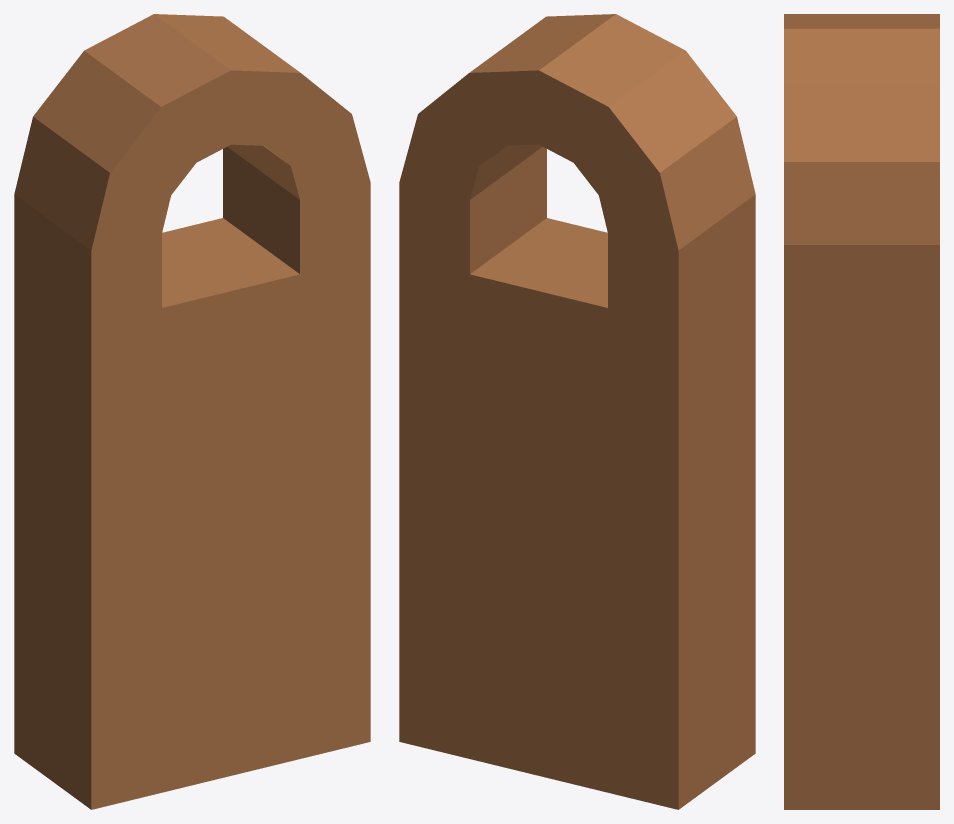
File: SM_Prop_RoofFence_02.glb
The picture shows the model from 3 angles, left to right: view 1: azimuth 30°, elevation 25°; view 2: azimuth 150°, elevation 25°; view 3: azimuth 270°, elevation 25°; orthographic projection.
Visible parts, largest first — view 1: SM_Prop_RoofFence_02; view 2: SM_Prop_RoofFence_02; view 3: SM_Prop_RoofFence_02.
Part boxes in pixels (bbox=[...]): SM_Prop_RoofFence_02: bbox=[14, 14, 370, 809]; SM_Prop_RoofFence_02: bbox=[399, 14, 755, 809]; SM_Prop_RoofFence_02: bbox=[784, 14, 939, 809].
Bounding box in the file's own units: 0.00558 × 0.0135 × 0.00267.
